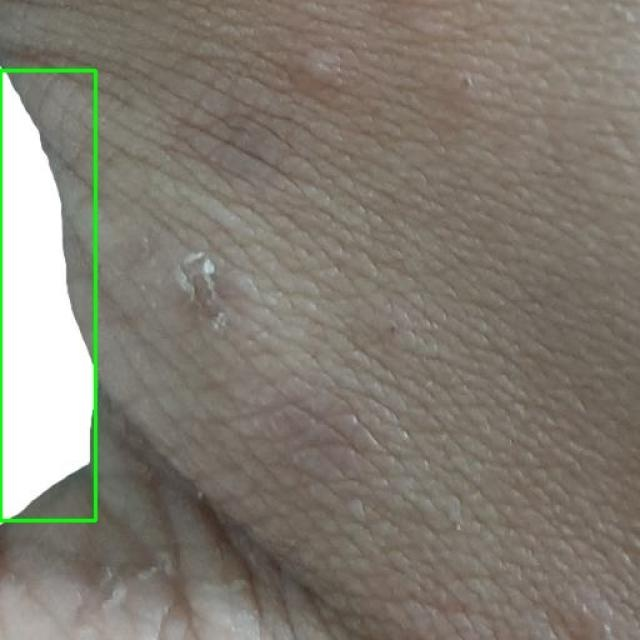Scabies: (0, 70, 95, 520)
